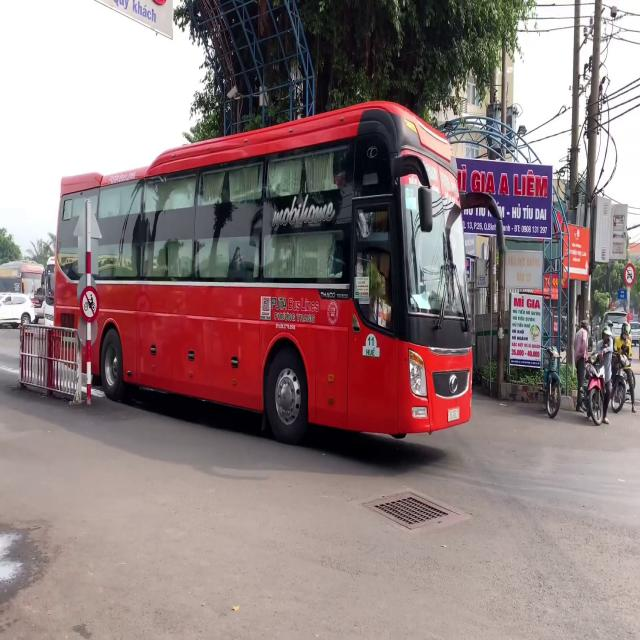bien_trang: (448, 409, 460, 423)
